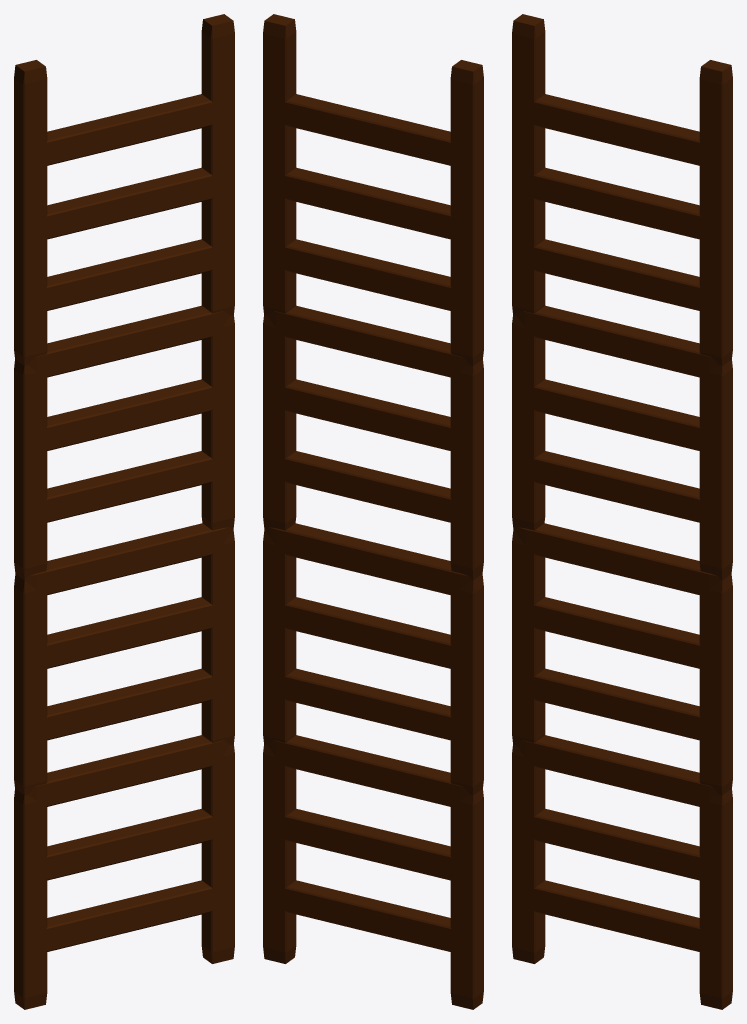
File: Escada.glb
3 renders of one model, left to right at view 1: azimuth 30°, elevation 25°; view 2: azimuth 150°, elevation 25°; view 3: azimuth 330°, elevation 25°, orthographic.
Parts seen in each view (by area): view 1: Cube.001, Cube.011, Cube.006, Cube.016, Cube.005, Cube.010, Cube, Cube.020, Cube.002, Cube.015, Cube.013, Cube.014 (+10 smaller); view 2: Cube.001, Cube.011, Cube.006, Cube.016, Cube.005, Cube.010, Cube, Cube.002, Cube.015, Cube.004, Cube.013, Cube.014 (+10 smaller); view 3: Cube.002, Cube.012, Cube.007, Cube.017, Cube.005, Cube.010, Cube, Cube.001, Cube.015, Cube.004, Cube.013, Cube.014 (+10 smaller).
Boxes of the visible parts, x1=… form: Cube.001: x1=14, y1=789, x2=47, y2=1009; Cube.011: x1=14, y1=359, x2=47, y2=580; Cube.006: x1=14, y1=574, x2=47, y2=795; Cube.016: x1=14, y1=157, x2=47, y2=365; Cube.005: x1=25, y1=523, x2=232, y2=596; Cube.010: x1=28, y1=305, x2=229, y2=378; Cube: x1=28, y1=735, x2=230, y2=806; Cube.020: x1=14, y1=60, x2=47, y2=277; Cube.002: x1=201, y1=744, x2=234, y2=963; Cube.015: x1=37, y1=94, x2=221, y2=166; Cube.013: x1=37, y1=379, x2=221, y2=452; Cube.014: x1=37, y1=451, x2=221, y2=522; Cube.001: x1=450, y1=789, x2=483, y2=1009; Cube.011: x1=450, y1=359, x2=483, y2=580; Cube.006: x1=450, y1=574, x2=483, y2=795; Cube.016: x1=450, y1=158, x2=483, y2=365; Cube.005: x1=265, y1=523, x2=472, y2=596; Cube.010: x1=268, y1=305, x2=469, y2=378; Cube: x1=267, y1=735, x2=469, y2=806; Cube.002: x1=263, y1=744, x2=296, y2=963; Cube.015: x1=276, y1=94, x2=460, y2=166; Cube.004: x1=276, y1=880, x2=460, y2=953; Cube.013: x1=276, y1=379, x2=460, y2=452; Cube.014: x1=276, y1=451, x2=460, y2=523; Cube.002: x1=699, y1=789, x2=732, y2=1009; Cube.012: x1=699, y1=359, x2=732, y2=580; Cube.007: x1=699, y1=574, x2=732, y2=795; Cube.017: x1=699, y1=157, x2=732, y2=365; Cube.005: x1=514, y1=523, x2=721, y2=596; Cube.010: x1=517, y1=305, x2=718, y2=378; Cube: x1=516, y1=735, x2=718, y2=806; Cube.001: x1=512, y1=744, x2=545, y2=963; Cube.015: x1=525, y1=94, x2=709, y2=166; Cube.004: x1=525, y1=880, x2=709, y2=953; Cube.013: x1=525, y1=379, x2=709, y2=452; Cube.014: x1=525, y1=451, x2=709, y2=523.
Size of the model in its own units: 1.46 by 6.2 by 0.1253.
